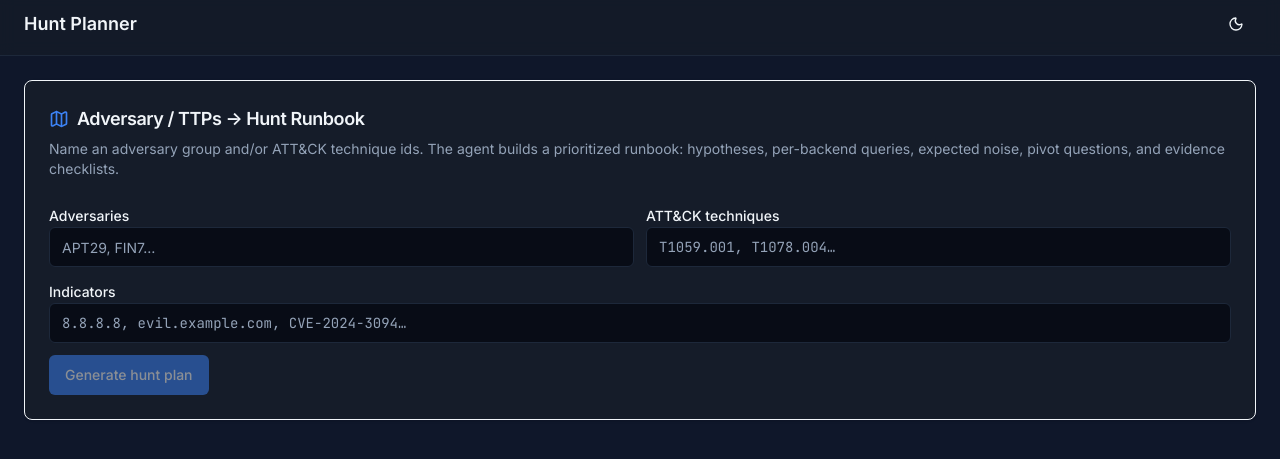
Test: HuntPlanPage IOC input (#99) › shows the inferred type back before sending
Type "8.8.8.8 nonsense-value" into the field with test id "plan-iocs-input" at (640, 323), box left=49, top=303, right=1231, bottom=343
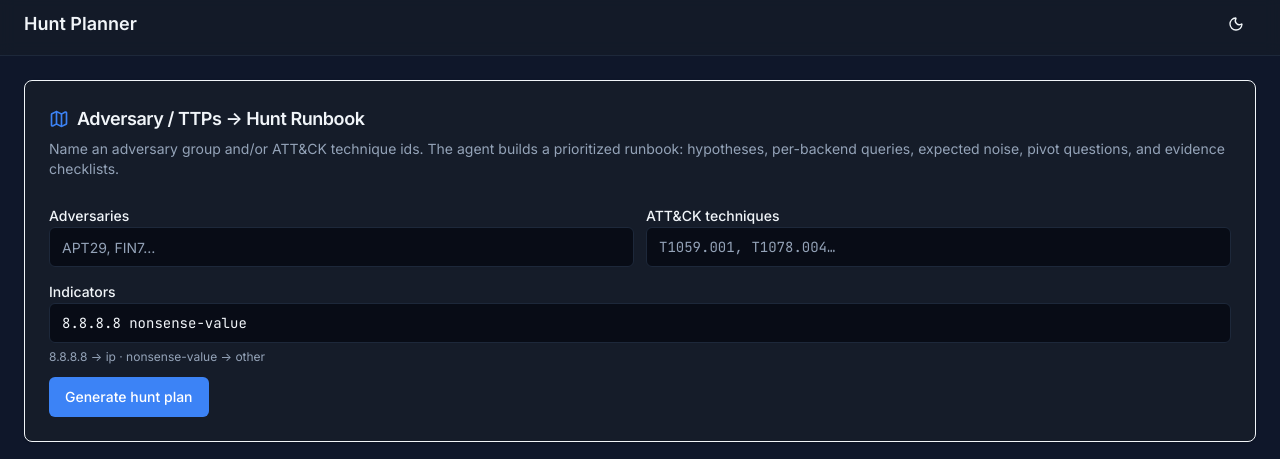
Result: the text with test id "plan-iocs-preview" shows "8.8.8.8 → ip" at left=49, top=349, right=265, bottom=364
Result: the text with test id "plan-iocs-preview" shows "nonsense-value → other" at left=49, top=349, right=265, bottom=364
